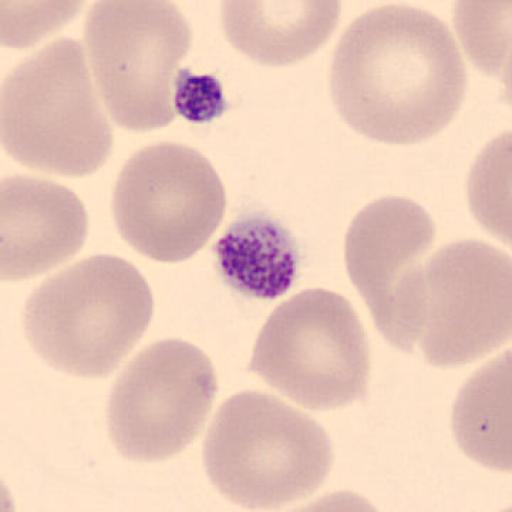Platelet: (215, 208, 304, 293), (166, 68, 234, 134)
RBC: (327, 1, 468, 147), (0, 11, 111, 179), (21, 252, 155, 381), (200, 388, 336, 508), (249, 285, 371, 416), (104, 336, 219, 466), (84, 0, 192, 135), (112, 140, 229, 264), (401, 238, 511, 368), (341, 194, 431, 338), (0, 175, 91, 283), (219, 0, 341, 68), (448, 350, 511, 477), (468, 128, 510, 244)
